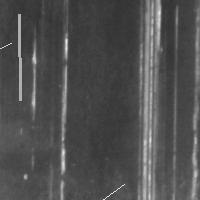scratches: (133, 1, 163, 199), (56, 26, 73, 199), (26, 32, 41, 124), (64, 179, 129, 200), (14, 9, 25, 105), (0, 38, 16, 84), (195, 7, 200, 40)
